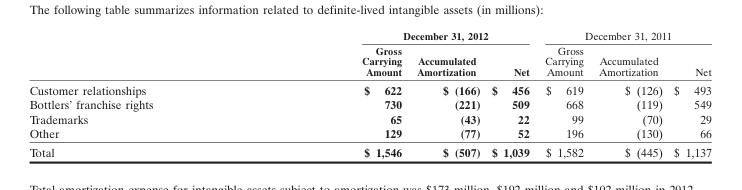table: (28, 28, 710, 159)
table column: (28, 28, 256, 159), (256, 28, 408, 159), (408, 28, 485, 159), (590, 28, 667, 159), (536, 28, 590, 159), (485, 28, 536, 159), (667, 28, 710, 159)
table column header: (28, 28, 710, 80)
table row: (28, 42, 710, 80), (28, 80, 710, 97), (28, 125, 710, 142), (28, 142, 710, 159), (28, 28, 710, 42), (28, 97, 710, 111), (28, 111, 710, 125)
table spanning cell: (256, 28, 536, 42), (536, 28, 710, 42)
